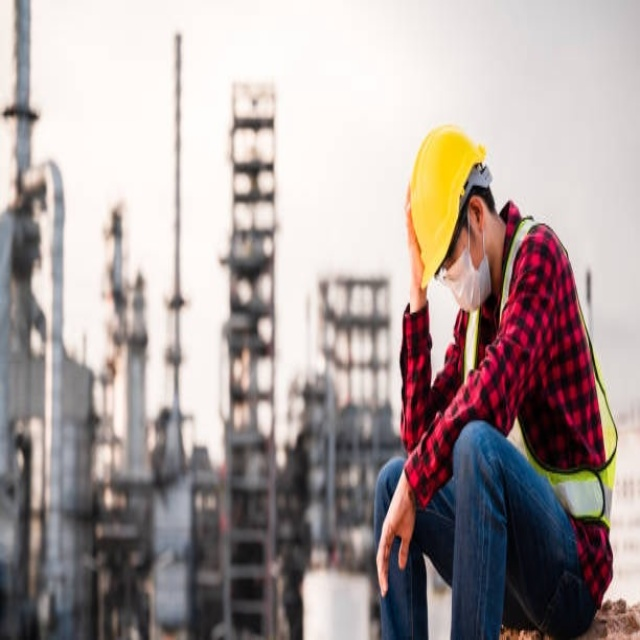Gafas: (432, 208, 466, 290)
Mascara: (440, 211, 491, 312)
Sin_guantes: (375, 472, 416, 598)
